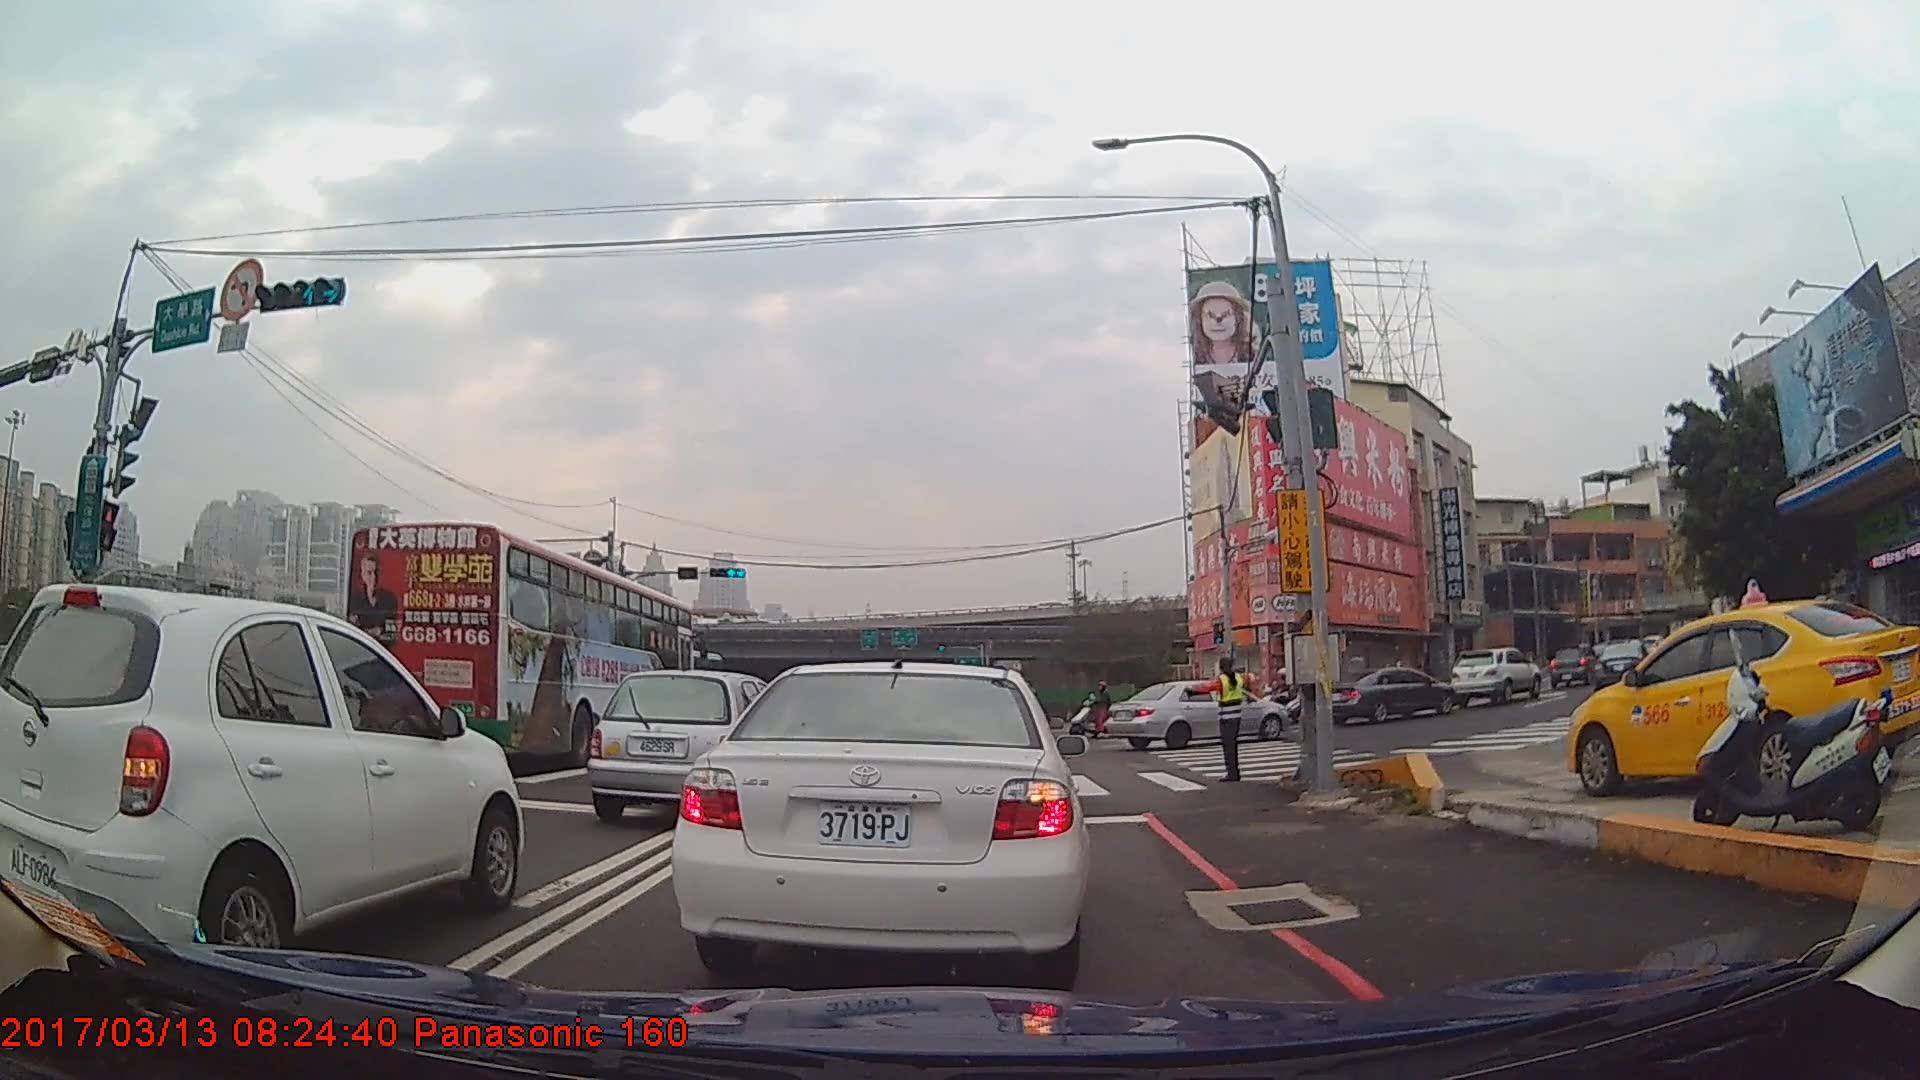pedestrian: (1206, 656, 1250, 785)
rider: (1072, 682, 1133, 738), (1253, 667, 1302, 725)
vehicle: (0, 578, 521, 976), (669, 659, 1086, 988), (336, 518, 701, 771), (1563, 598, 1920, 797), (586, 669, 809, 825), (1102, 678, 1286, 748), (1320, 664, 1453, 724), (1450, 645, 1541, 707), (1591, 638, 1656, 697), (1549, 642, 1601, 688)
